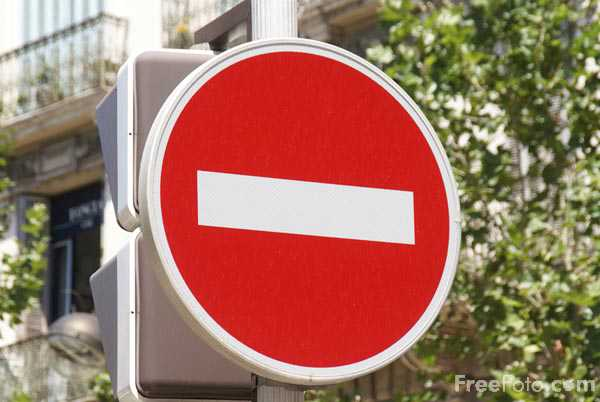No_entry: (151, 44, 458, 377)
